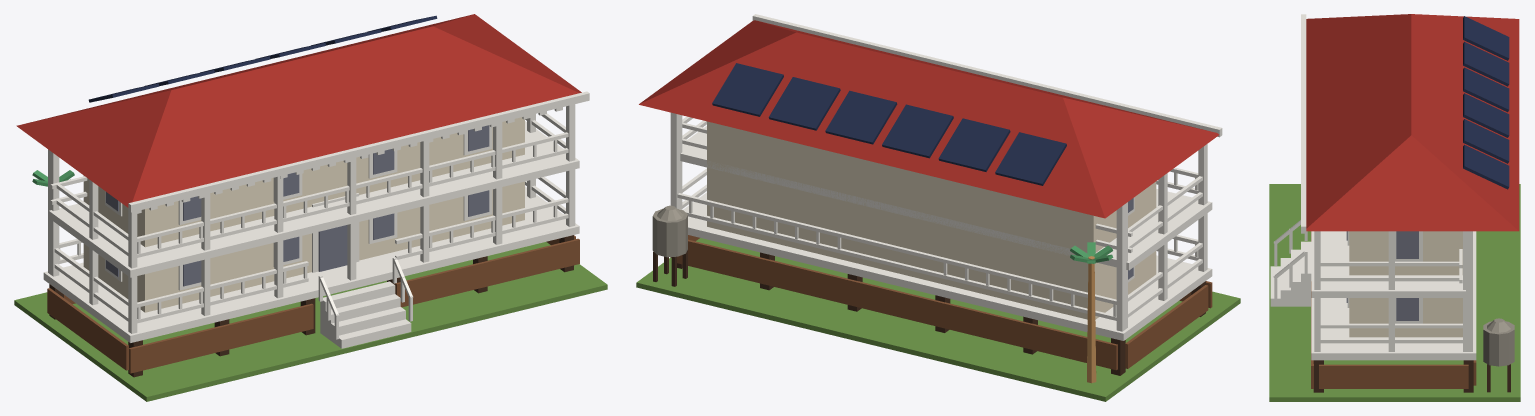
The model's file is house-2x1-2f-queenslander-a-solar.glb.
3 renders of one model, left to right at view 1: azimuth 30°, elevation 25°; view 2: azimuth 150°, elevation 25°; view 3: azimuth 270°, elevation 25°, orthographic. The views are drawn at different scales.
Parts seen in each view (by area): view 1: house-2x1-2f-queenslander-a-solar; view 2: house-2x1-2f-queenslander-a-solar; view 3: house-2x1-2f-queenslander-a-solar.
Boxes of the visible parts, <box> form: house-2x1-2f-queenslander-a-solar: <box>14,14,607,401</box>; house-2x1-2f-queenslander-a-solar: <box>636,14,1240,401</box>; house-2x1-2f-queenslander-a-solar: <box>1269,14,1520,401</box>.
Size of the model in its own units: 1.99 by 0.96 by 0.99.
1 material, 1 textured.
